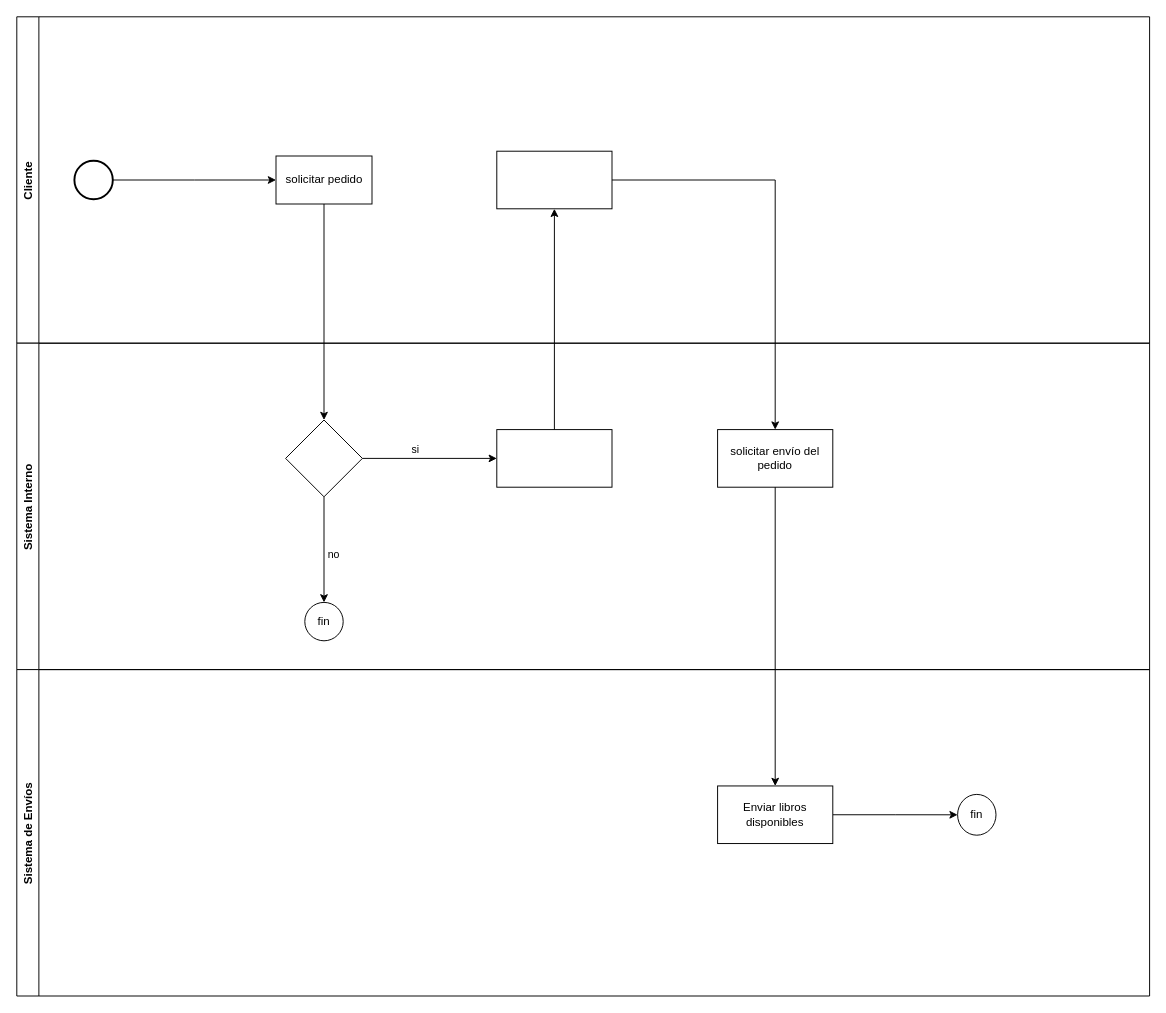
Image size: 1166x1013. Some labels were removed from this diagram. Each missing label, with the centre of its shape:
"enviar opciones de envío y empaquetado" belongs at (x=554, y=179).
"inicio" belongs at (x=93, y=179).
"solicitar opciones de envio y empaquetado" belongs at (x=554, y=458).
"usuario autenticado" belongs at (x=323, y=458).
